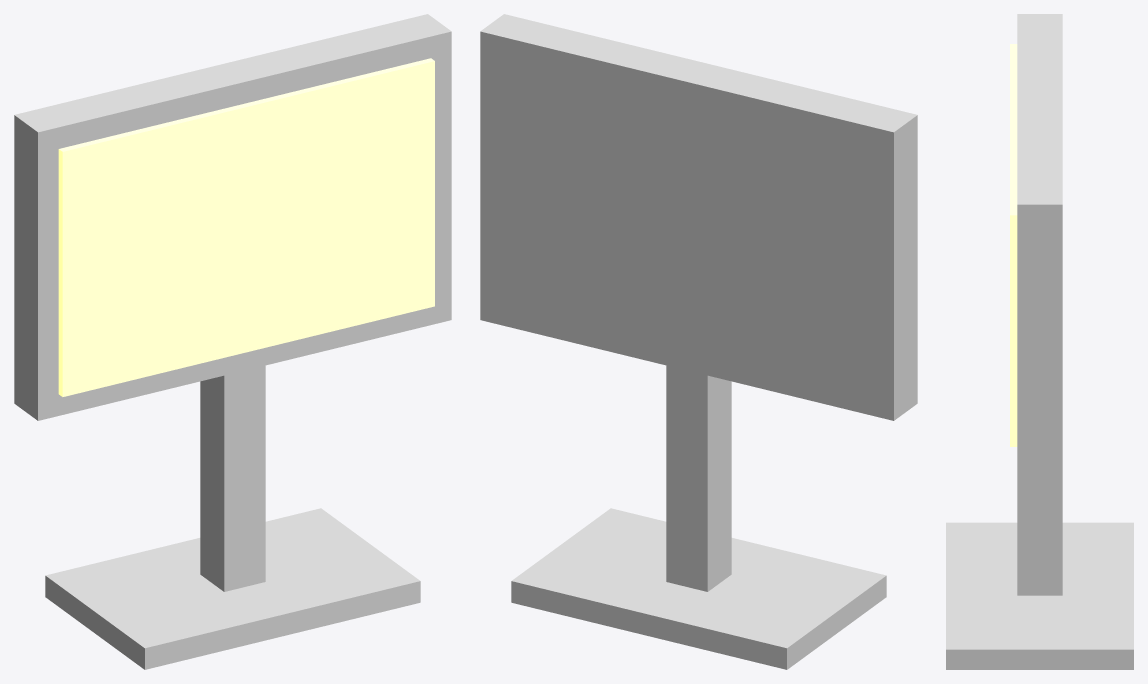
File: computer3.glb
3 views of the same model, side by side, from view 1: azimuth 30°, elevation 25°; view 2: azimuth 150°, elevation 25°; view 3: azimuth 270°, elevation 25° (orthographic). The views are drawn at different scales.
Bounding box in the file's own units: 0.6 × 0.73 × 0.25.
